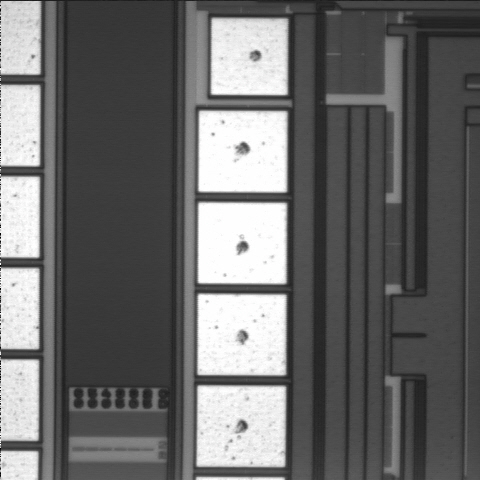pad: (198, 202, 287, 284), (198, 111, 287, 192), (197, 386, 286, 467), (198, 294, 286, 375), (211, 18, 288, 95)
